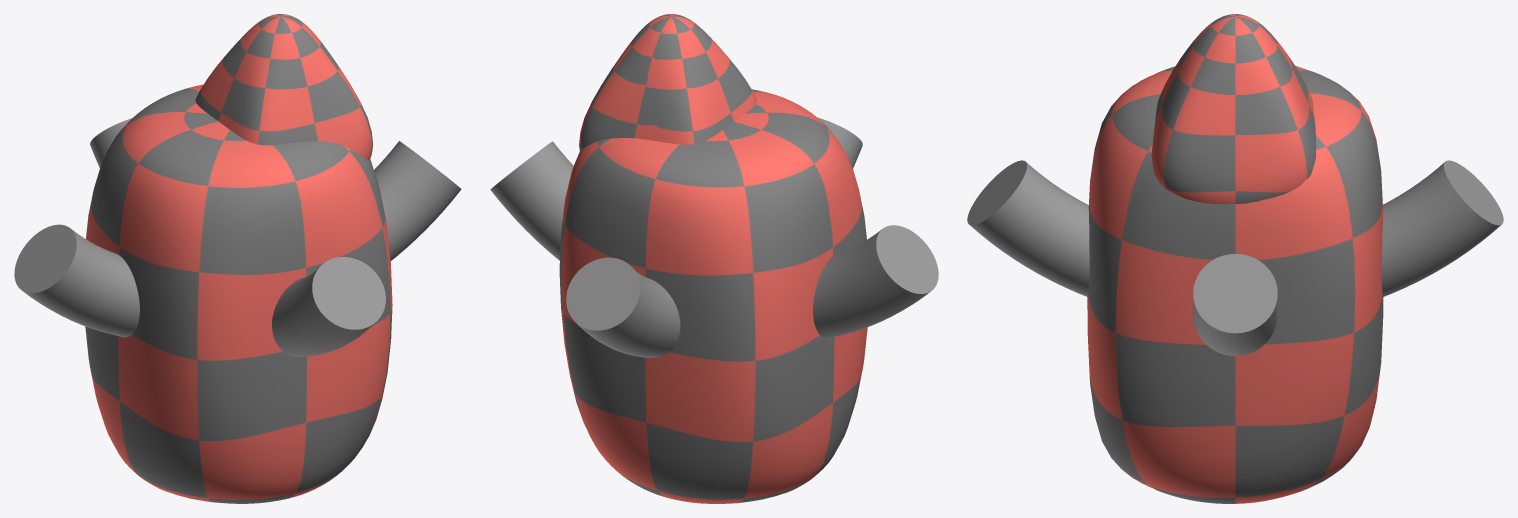
File: Body(Oblong)+Colour(More_Red)+Pattern(Checkered)+Arm_Angle(Bent_Up)+Hat(Pyramidal).fbx
The picture shows the model from 3 angles, left to right: view 1: azimuth 30°, elevation 25°; view 2: azimuth 150°, elevation 25°; view 3: azimuth 270°, elevation 25°; orthographic projection. The views are drawn at different scales.
Parts seen in each view (by area): view 1: Body(Oblong)+Colour(More_Red)+Pattern(Checkered)+Arm_Angle(B (×6); view 2: Body(Oblong)+Colour(More_Red)+Pattern(Checkered)+Arm_Angle(B (×6); view 3: Body(Oblong)+Colour(More_Red)+Pattern(Checkered)+Arm_Angle(B (×5).
Part boxes in pixels (x1,y1,x2,y2): Body(Oblong)+Colour(More_Red)+Pattern(Checkered)+Arm_Angle(B (×6): [14, 14, 461, 503]; Body(Oblong)+Colour(More_Red)+Pattern(Checkered)+Arm_Angle(B (×6): [490, 14, 938, 503]; Body(Oblong)+Colour(More_Red)+Pattern(Checkered)+Arm_Angle(B (×5): [967, 14, 1503, 503].
Size of the model in its own units: 50.67 by 50 by 50.67.
2 materials, 1 textured.
